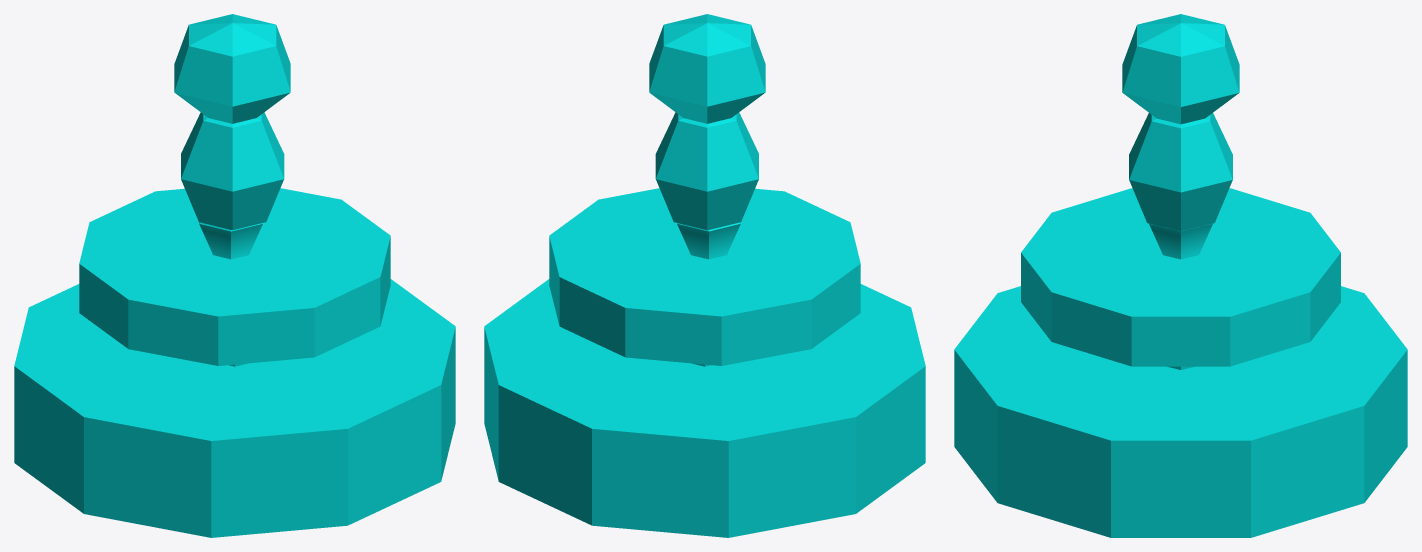
File: SM_Prop_Fountain_01_Collision.fbx
3 views of the same model, side by side, from view 1: azimuth 30°, elevation 25°; view 2: azimuth 150°, elevation 25°; view 3: azimuth 270°, elevation 25° (orthographic).
Visible parts, largest first — view 1: SM_Prop_Fountain_01_Collision; view 2: SM_Prop_Fountain_01_Collision; view 3: SM_Prop_Fountain_01_Collision.
Boxes of the visible parts, x1=… form: SM_Prop_Fountain_01_Collision: x1=14, y1=14, x2=455, y2=537; SM_Prop_Fountain_01_Collision: x1=484, y1=14, x2=925, y2=537; SM_Prop_Fountain_01_Collision: x1=954, y1=14, x2=1407, y2=537.
Bounding box in the file's own units: 452 × 489 × 475.
